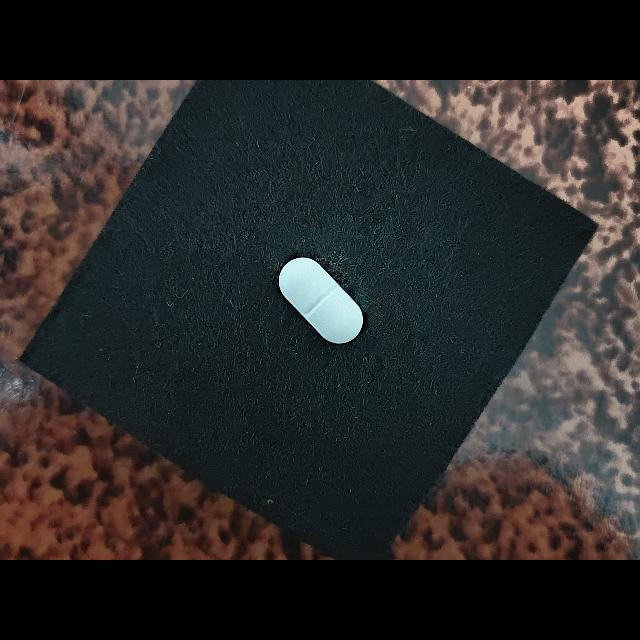Intact Pill: (278, 257, 363, 344)
